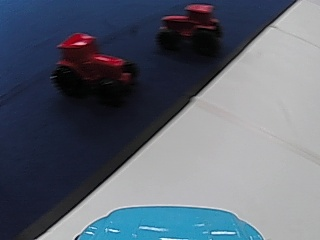Tracktor: (49, 31, 141, 101), (157, 2, 222, 51)
